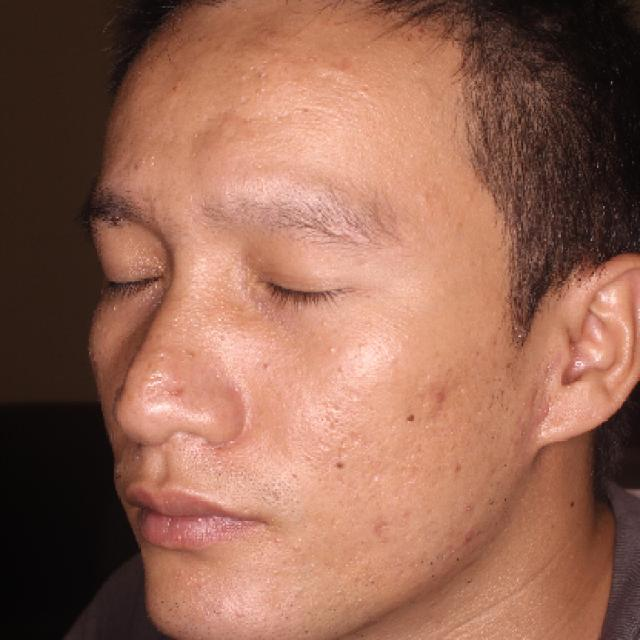acne: (390, 402, 426, 430), (326, 452, 356, 477), (321, 340, 343, 359)
